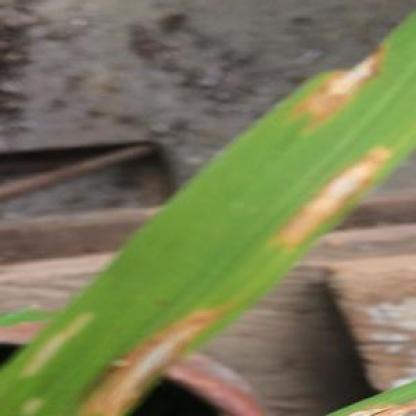Rice blast: (58, 302, 231, 416), (271, 143, 413, 254), (285, 40, 392, 141)
